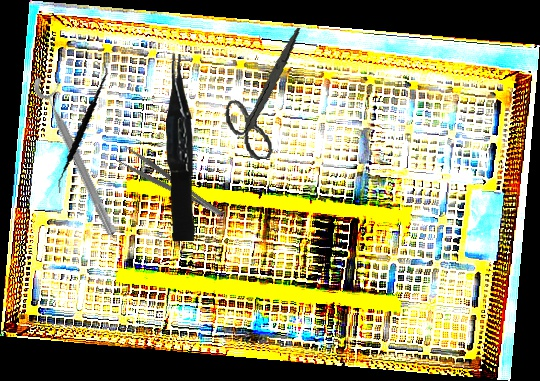Dressing Forceps: (114, 143, 226, 228)
Fixation Ring: (30, 69, 129, 239)
Iris Scissors: (214, 27, 319, 164)
Spatula Surgical: (36, 61, 128, 194)
Tissue Forceps: (164, 53, 198, 242)
